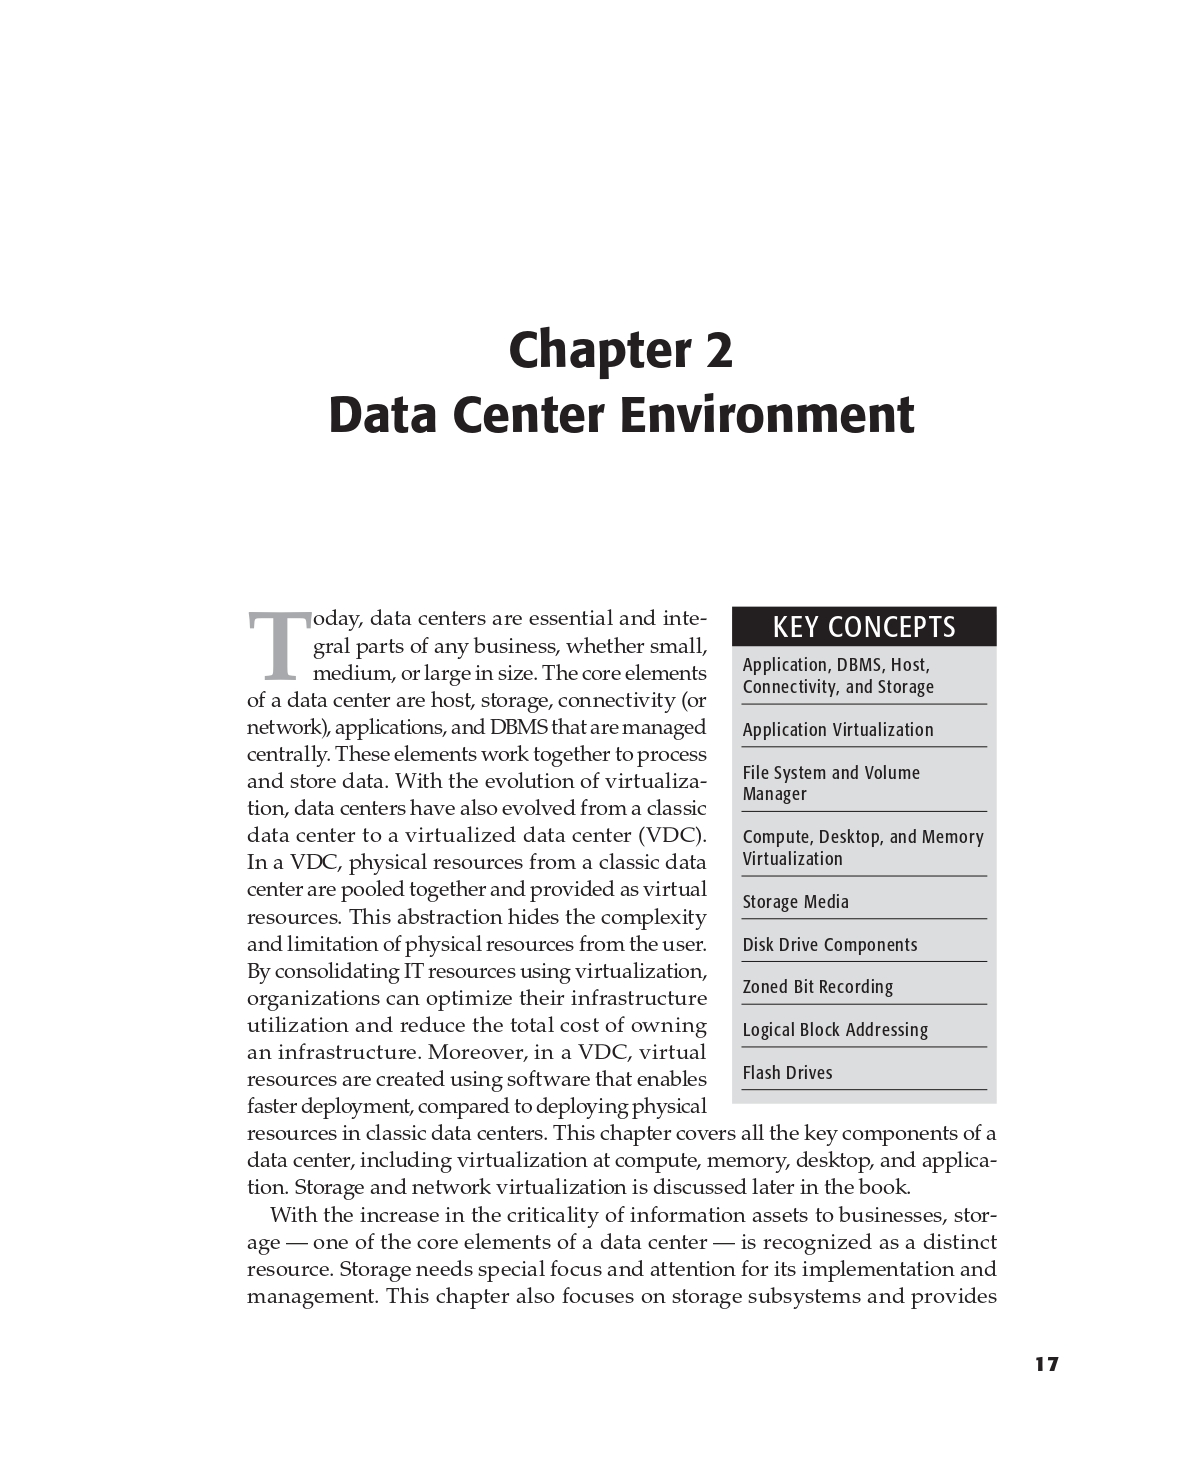Paragraph: (222, 601, 724, 1127), (245, 1133, 1016, 1303), (304, 371, 923, 435), (736, 818, 984, 870), (733, 646, 941, 695), (739, 756, 929, 808), (482, 333, 748, 368), (763, 611, 976, 648), (733, 713, 958, 748), (739, 926, 926, 961), (742, 1013, 941, 1046), (733, 964, 908, 990), (754, 1048, 852, 1086), (733, 888, 858, 914)
